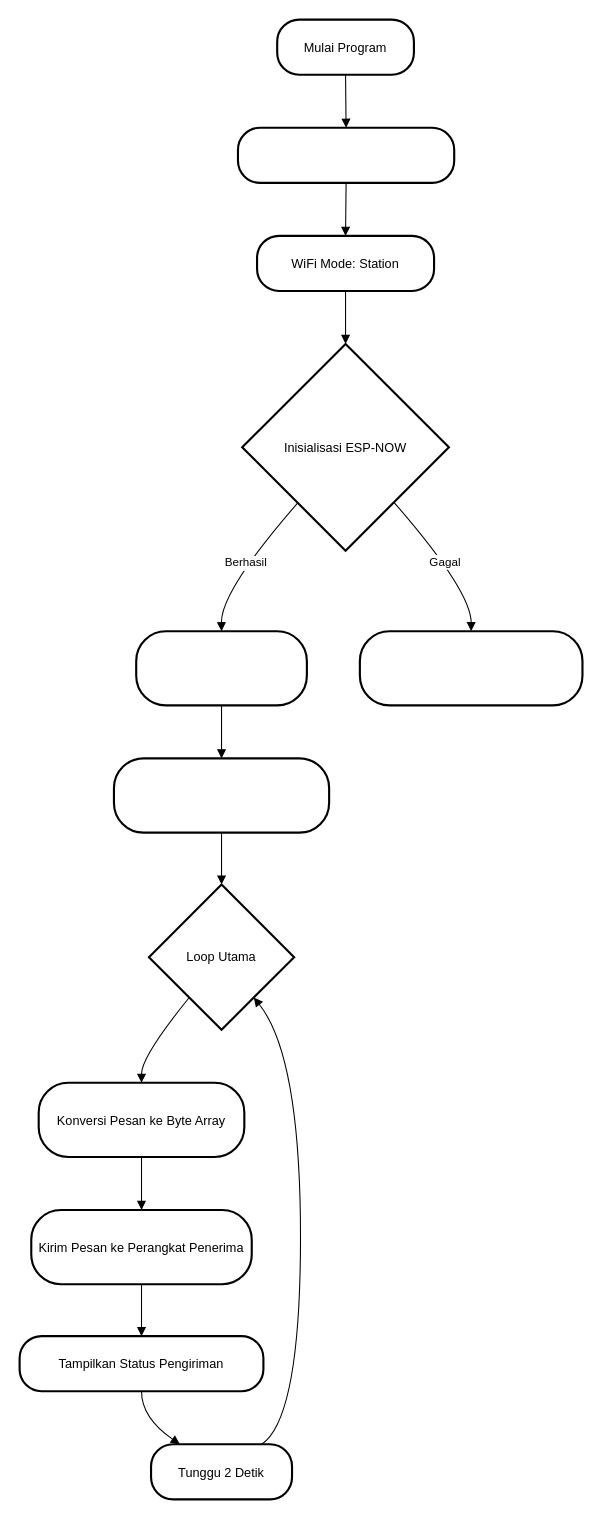
Some shapes in this 616 by 1518 pixel diagram are drawn without their labels. The centre of each missing label's shape, as x and y in pixels:
"Inisialisasi Serial Monitor" goes at (345,154).
"Menambahkan Perangkat Penerima" goes at (221,795).
"Registrasi Callback Pengiriman" goes at (221,668).
"Tampilkan Gagal Menginisialisasi ESP-NOW" goes at (470,668).
